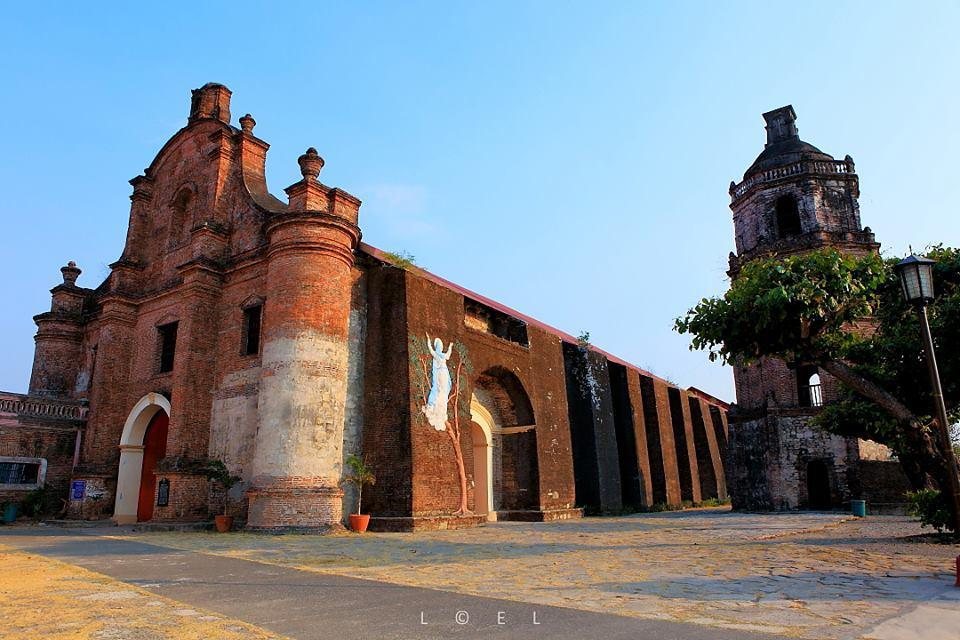Sta. Maria Church: (27, 76, 345, 532)
Unfinished Paint: (212, 333, 348, 479)
